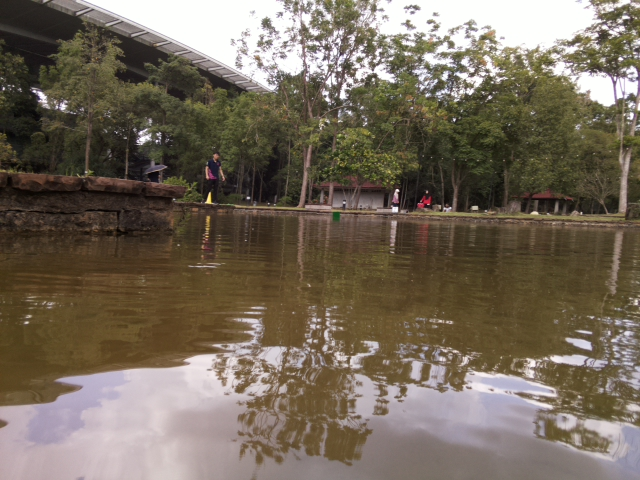checkpoint: (204, 191, 214, 206)
obstacle: (332, 211, 342, 220)
